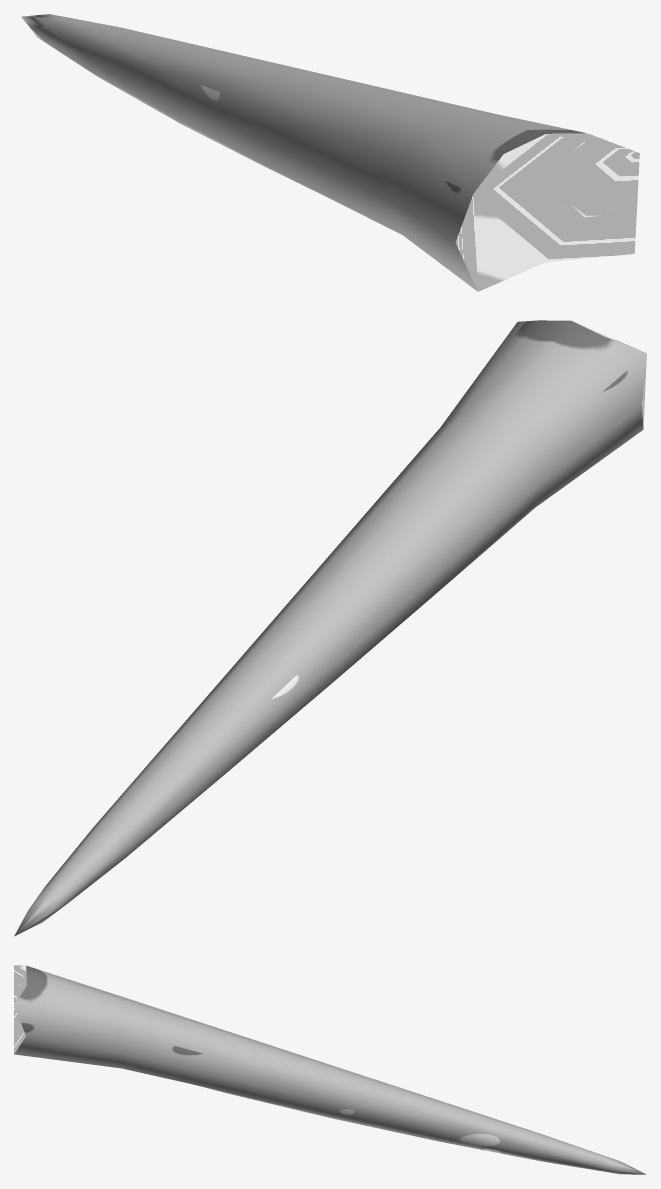
File: ColaManta.obj
3 views of the same model, one above another, from view 1: azimuth 30°, elevation 25°; view 2: azimuth 150°, elevation 25°; view 3: azimuth 270°, elevation 25° (orthographic). The views are drawn at different scales.
Parts seen in each view (by area): view 1: Cola; view 2: Cola; view 3: Cola.
Boxes of the visible parts, left/top/right/bottom form: Cola: left=21, top=14, right=639, bottom=291; Cola: left=14, top=320, right=646, bottom=936; Cola: left=14, top=965, right=646, bottom=1174.
Size of the model in its own units: 2.2 by 3.89 by 12.38.
Materials: 2 (2 with a texture image).
